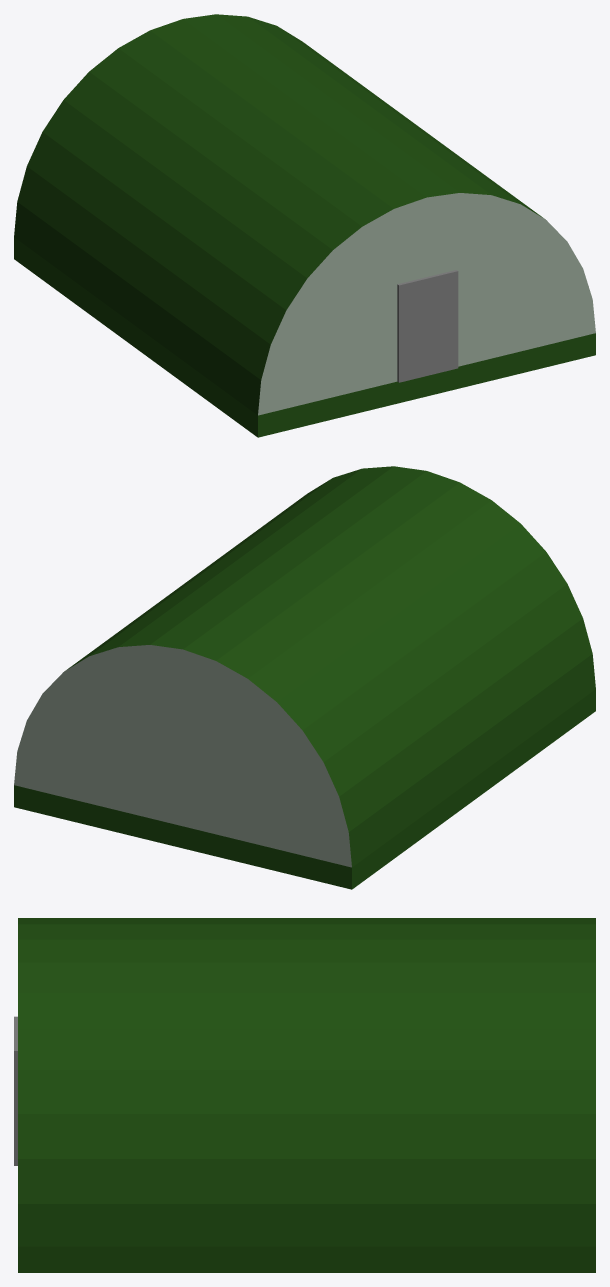
File: barrack_1.C9rxmxg3.glb
3 views of the same model, one above another, from view 1: azimuth 30°, elevation 25°; view 2: azimuth 150°, elevation 25°; view 3: azimuth 270°, elevation 25° (orthographic). The views are drawn at different scales.
Parts seen in each view (by area): view 1: Zylinder, Würfel; view 2: Zylinder; view 3: Zylinder, Würfel.
Part boxes in pixels (box(x1,y1,x2,y2)): Zylinder: box(14, 14, 595, 437); Würfel: box(397, 270, 458, 382); Zylinder: box(14, 466, 595, 889); Zylinder: box(18, 918, 595, 1272); Würfel: box(14, 1016, 17, 1165).
Bounding box in the file's own units: 0.8 × 0.45 × 1.01.
